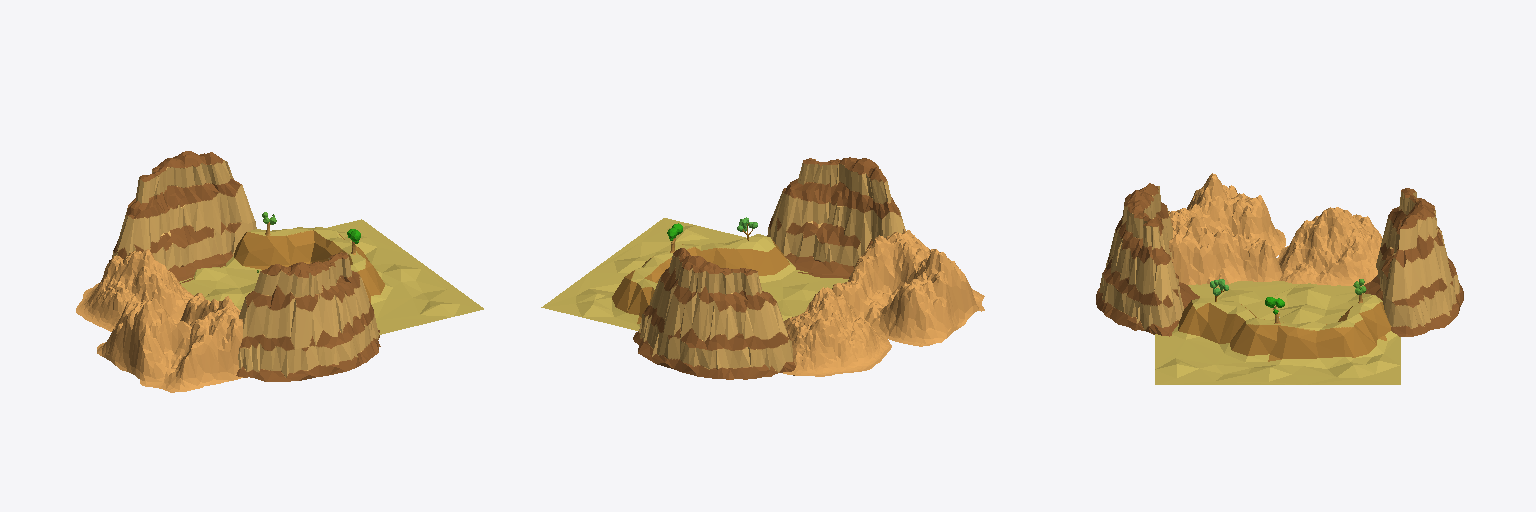
3 views of the same model, side by side, from view 1: azimuth 30°, elevation 25°; view 2: azimuth 150°, elevation 25°; view 3: azimuth 270°, elevation 25° (orthographic).
Parts seen in each view (by area): view 1: Terrain_1; view 2: Terrain_1; view 3: Terrain_1.
Boxes of the visible parts, x1,y1,x2,y2 form: Terrain_1: [76, 151, 483, 392]; Terrain_1: [541, 157, 984, 379]; Terrain_1: [1096, 173, 1463, 384].
Size of the model in its own units: 168 by 50.19 by 161.
Materials: 1 (1 with a texture image).